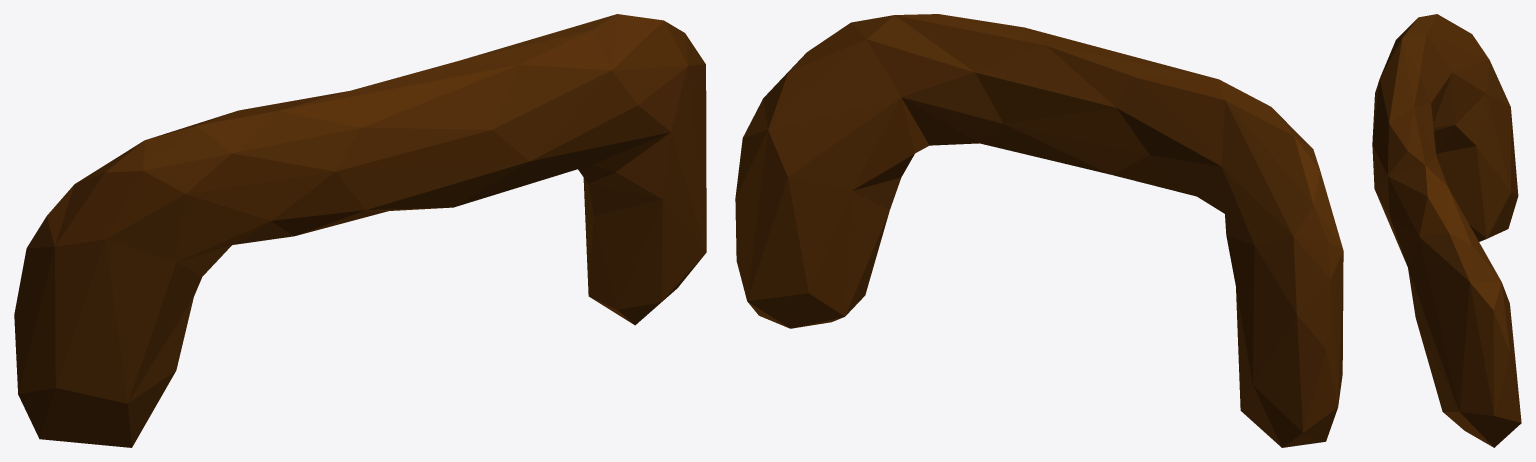
Rendered from Moustache2.glb.
The picture shows the model from 3 angles, left to right: view 1: azimuth 30°, elevation 25°; view 2: azimuth 150°, elevation 25°; view 3: azimuth 270°, elevation 25°; orthographic projection. The views are drawn at different scales.
Visible parts, largest first — view 1: Plane.001; view 2: Plane.001; view 3: Plane.001.
Part boxes in pixels (x1,y1,x2,y2): Plane.001: [14, 14, 706, 447]; Plane.001: [735, 14, 1343, 447]; Plane.001: [1372, 14, 1521, 447].
Size of the model in its own units: 0.3083 by 0.1476 by 0.0797.
